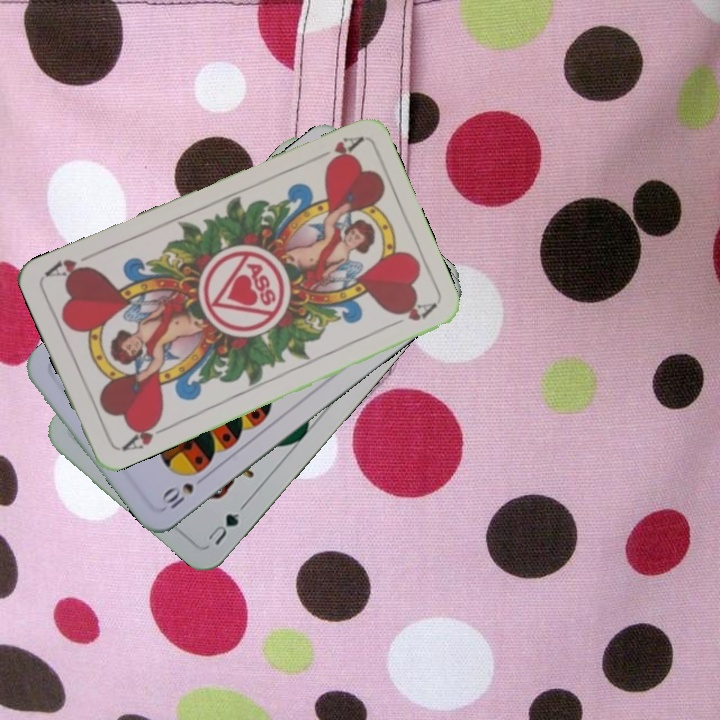GU: (204, 509, 242, 548)
HA: (117, 414, 172, 454), (307, 132, 364, 170)
S10: (157, 471, 210, 514)
